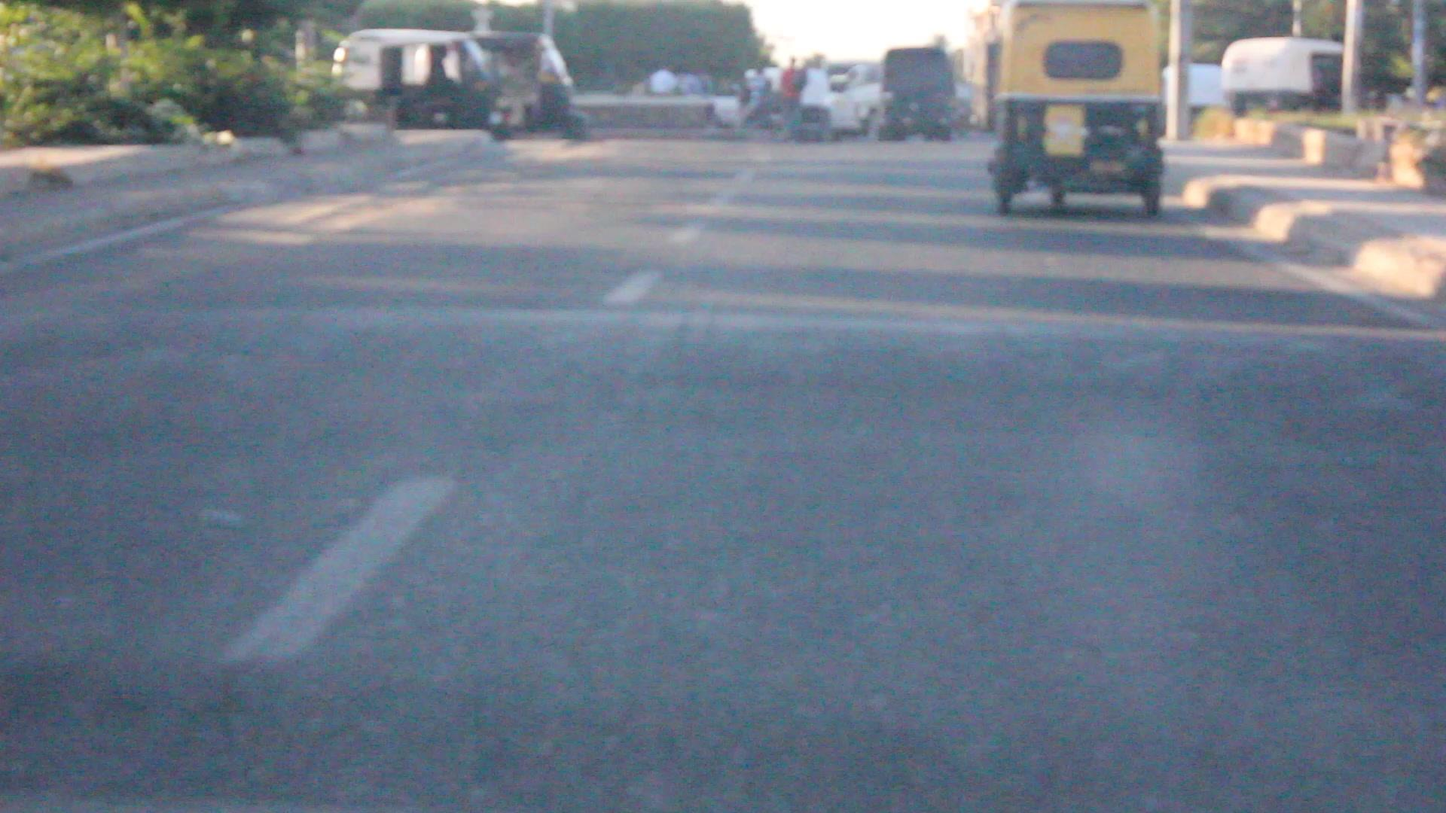Bump: (9, 301, 1446, 446)
